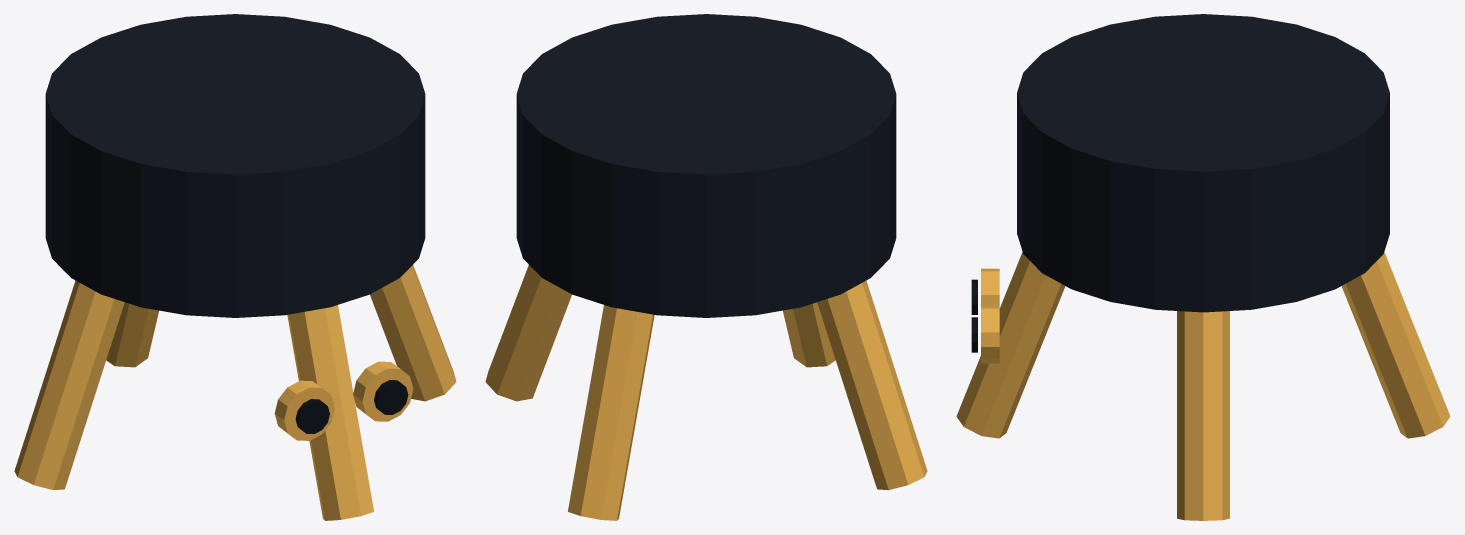
Rendered from 59_L92_SeismicContactGeophoneB.fbx.
3 views of the same model, side by side, from view 1: azimuth 30°, elevation 25°; view 2: azimuth 150°, elevation 25°; view 3: azimuth 270°, elevation 25° (orthographic).
Visible parts, largest first — view 1: L92_SeismicContactGeophoneB_Part_0000, L92_SeismicContactGeophoneB_Part_0001, L92_SeismicContactGeophoneB_Part_0004, L92_SeismicContactGeophoneB_Part_0002, L92_SeismicContactGeophoneB_Part_0005, L92_SeismicContactGeophoneB_Part_0003; view 2: L92_SeismicContactGeophoneB_Part_0000, L92_SeismicContactGeophoneB_Part_0001; view 3: L92_SeismicContactGeophoneB_Part_0000, L92_SeismicContactGeophoneB_Part_0001, L92_SeismicContactGeophoneB_Part_0004, L92_SeismicContactGeophoneB_Part_0002.
Boxes of the visible parts, box(x1,y1,x2,y2) form: L92_SeismicContactGeophoneB_Part_0000: box(45, 14, 425, 317); L92_SeismicContactGeophoneB_Part_0001: box(14, 265, 456, 520); L92_SeismicContactGeophoneB_Part_0004: box(353, 361, 413, 421); L92_SeismicContactGeophoneB_Part_0002: box(274, 380, 334, 440); L92_SeismicContactGeophoneB_Part_0005: box(374, 380, 408, 414); L92_SeismicContactGeophoneB_Part_0003: box(295, 399, 329, 433); L92_SeismicContactGeophoneB_Part_0000: box(516, 14, 896, 317); L92_SeismicContactGeophoneB_Part_0001: box(485, 265, 927, 520); L92_SeismicContactGeophoneB_Part_0000: box(1017, 14, 1389, 312); L92_SeismicContactGeophoneB_Part_0001: box(956, 252, 1450, 520); L92_SeismicContactGeophoneB_Part_0004: box(981, 306, 999, 363); L92_SeismicContactGeophoneB_Part_0002: box(981, 268, 999, 306).
Bounding box in the file's own units: 111 × 84.55 × 111.
